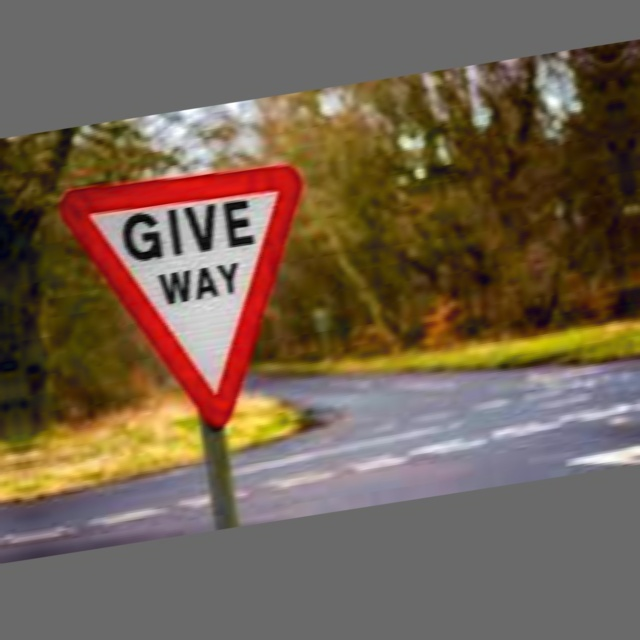Give_Way: (65, 161, 327, 433)
